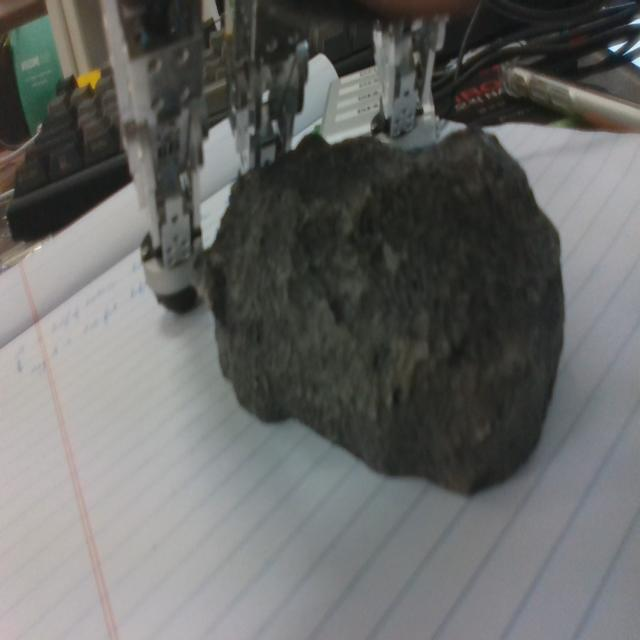stone: (198, 123, 566, 492)
